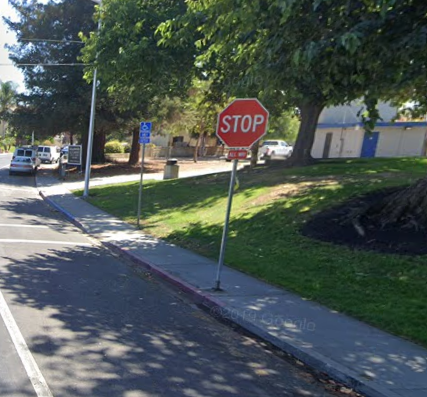stop_sign: (219, 99, 268, 147)
